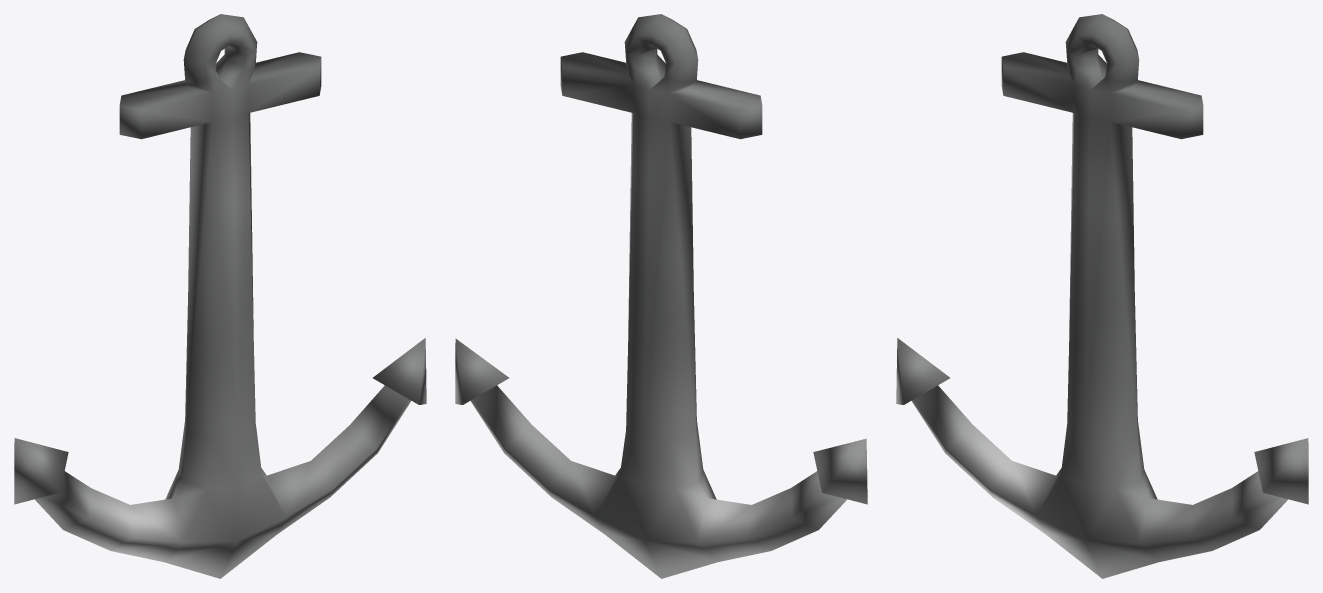
File: ancora.FBX
3 views of the same model, side by side, from view 1: azimuth 30°, elevation 25°; view 2: azimuth 150°, elevation 25°; view 3: azimuth 330°, elevation 25° (orthographic).
Parts seen in each view (by area): view 1: Cylinder001; view 2: Cylinder001; view 3: Cylinder001.
Part boxes in pixels (x1,y1,x2,y2): Cylinder001: (14,14,426,578); Cylinder001: (455,14,867,578); Cylinder001: (896,14,1308,578).
Size of the model in its own units: 266 by 348 by 42.66.
